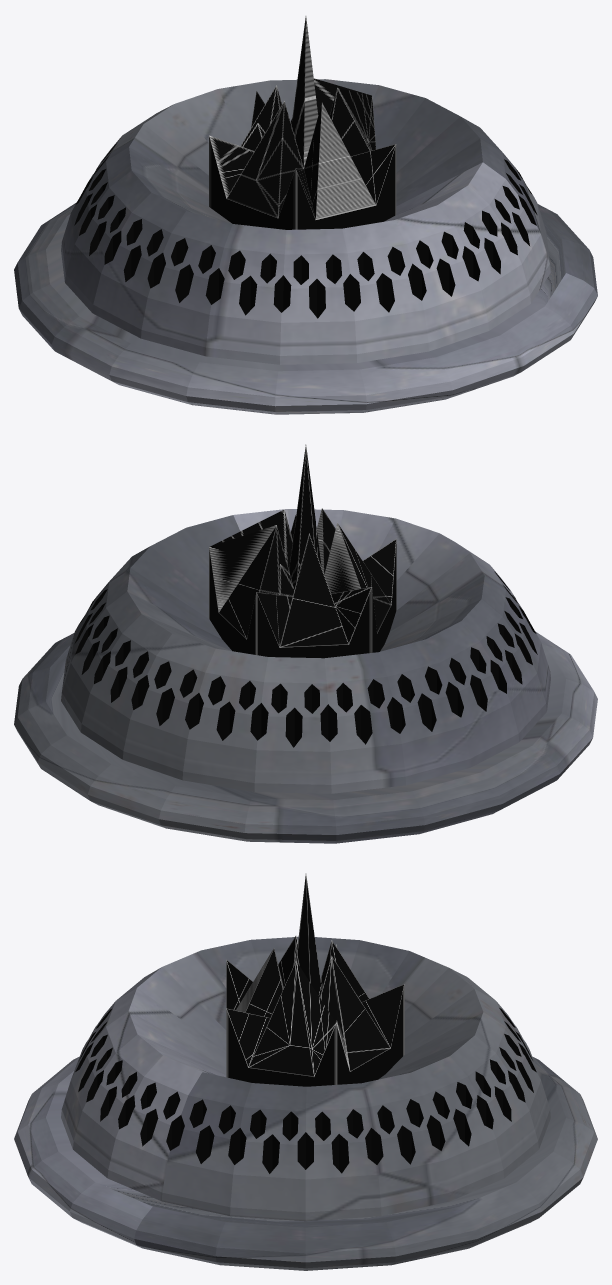
File: boss_base_ue.fbx
3 views of the same model, one above another, from view 1: azimuth 30°, elevation 25°; view 2: azimuth 150°, elevation 25°; view 3: azimuth 270°, elevation 25° (orthographic).
Visible parts, largest first — view 1: polySurface3281; view 2: polySurface3281; view 3: polySurface3281.
Part boxes in pixels (bbox=[...]): polySurface3281: bbox=[14, 16, 597, 414]; polySurface3281: bbox=[14, 444, 597, 843]; polySurface3281: bbox=[14, 873, 597, 1270].
Bounding box in the file's own units: 5.93 × 3.23 × 5.93.
1 material, 1 textured.
